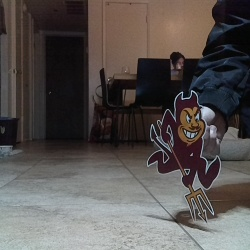sparky: (146, 90, 222, 224)
